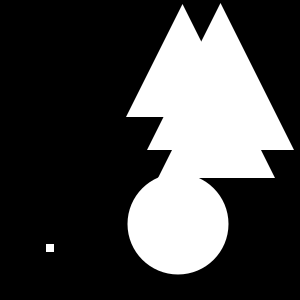circle: (46, 244, 54, 252)
rectangle: (128, 174, 228, 274)
triangle: (147, 3, 294, 150), (158, 61, 275, 178), (126, 4, 239, 117)
